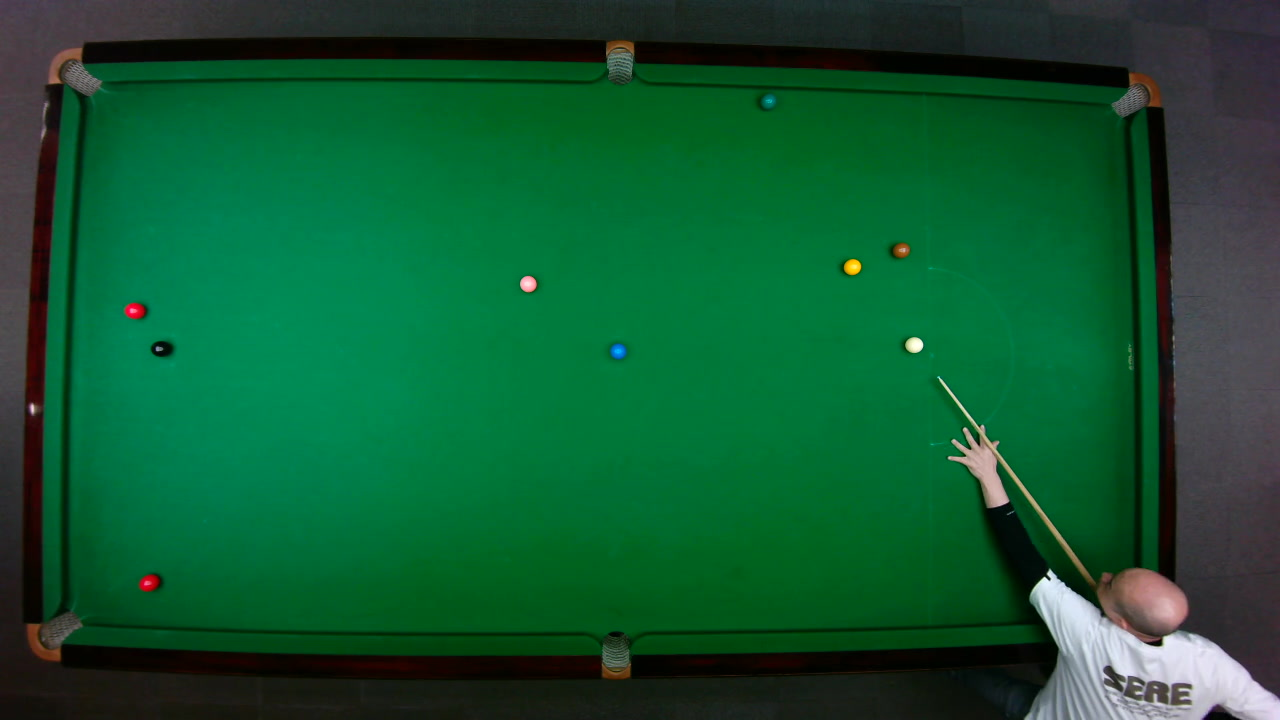bag: (24, 609, 83, 661), (45, 46, 101, 96), (1108, 71, 1161, 118), (600, 629, 629, 680), (605, 38, 633, 85)
black: (149, 339, 171, 357)
blue: (608, 342, 626, 359)
brown: (890, 241, 911, 258)
cue: (928, 374, 1102, 602)
green: (759, 93, 776, 110)
pink: (518, 274, 537, 292)
red: (137, 572, 161, 592), (123, 301, 146, 319)
white: (903, 335, 924, 353)
yellow: (841, 257, 862, 275)
zone: (928, 266, 1013, 446)
